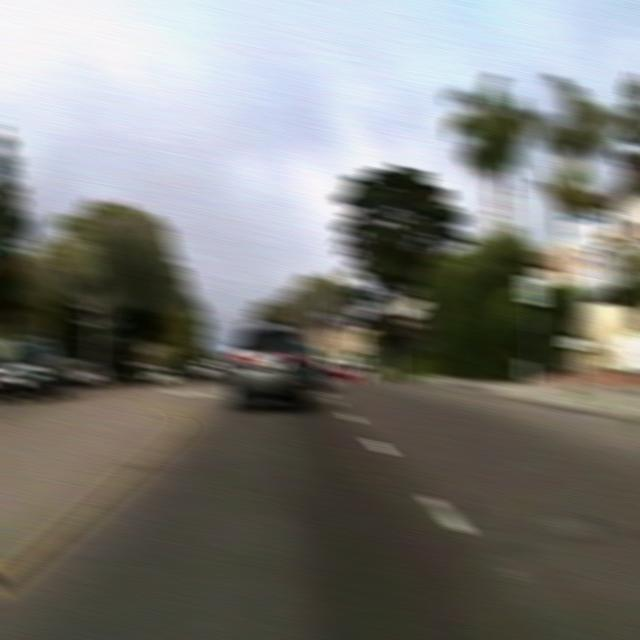speedLimit40: (519, 274, 545, 305)
